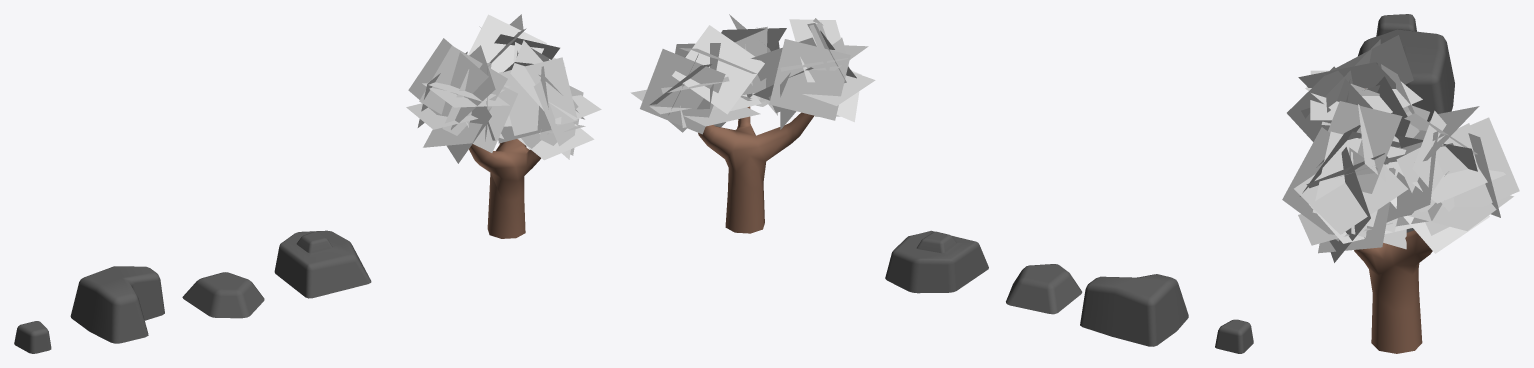
Rendered from Trees And Stones.fbx.
3 renders of one model, left to right at view 1: azimuth 30°, elevation 25°; view 2: azimuth 150°, elevation 25°; view 3: azimuth 270°, elevation 25°, orthographic. The views are drawn at different scales.
Parts seen in each view (by area): view 1: Tree, Stone 3, Stone 4, Stone 1, Stone 2; view 2: Tree, Stone 3, Stone 4, Stone 1, Stone 2; view 3: Tree, Stone 3, Stone 2.
Boxes of the visible parts, x1,y1,x2,y2 form: Tree: [406, 14, 601, 238]; Stone 3: [70, 266, 164, 343]; Stone 4: [274, 230, 371, 298]; Stone 1: [182, 272, 264, 318]; Stone 2: [14, 321, 51, 353]; Tree: [630, 14, 875, 233]; Stone 3: [1080, 274, 1188, 346]; Stone 4: [885, 230, 988, 293]; Stone 1: [1006, 264, 1082, 314]; Stone 2: [1215, 319, 1253, 353]; Tree: [1282, 35, 1519, 353]; Stone 3: [1358, 29, 1454, 121]; Stone 2: [1376, 14, 1416, 36].
Size of the model in its own units: 603 by 212 by 168.
